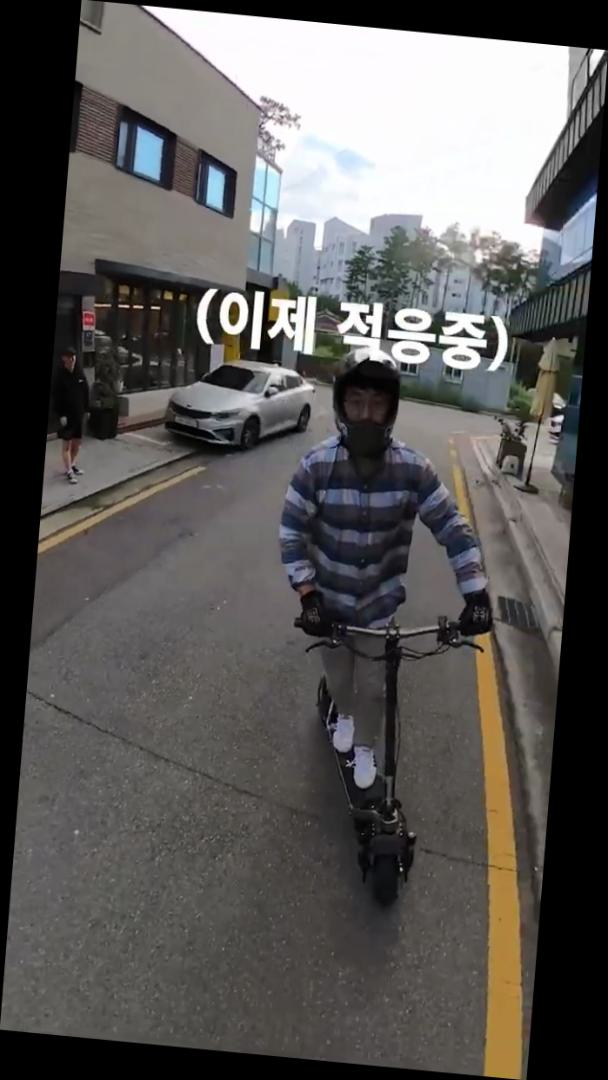helmet: (250, 337, 517, 918)
